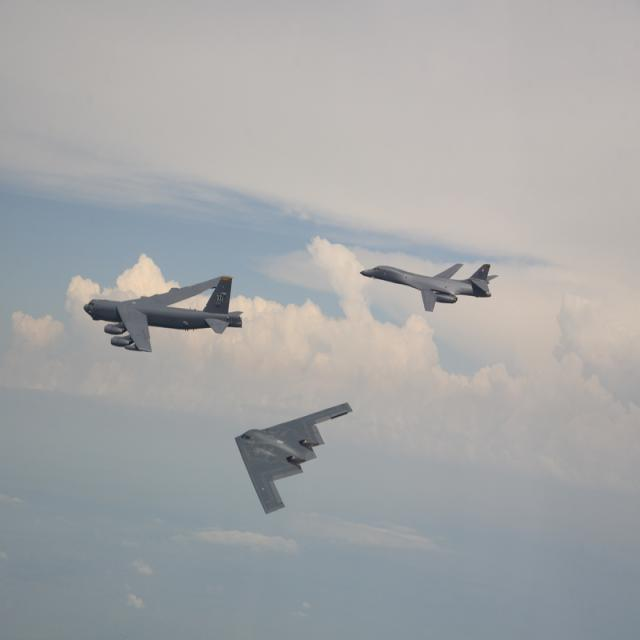MIL_Plane: (234, 402, 353, 514), (83, 83, 244, 161), (392, 263, 467, 312)
